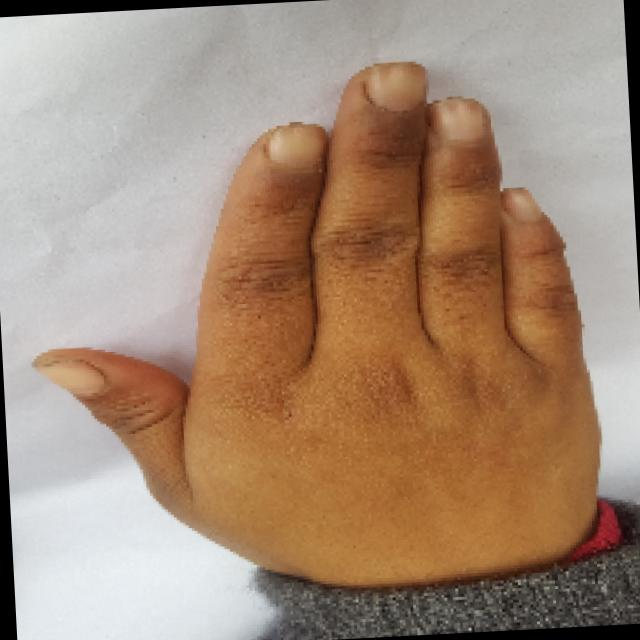Nail: (363, 62, 426, 111), (266, 123, 326, 169), (429, 97, 486, 143), (35, 362, 104, 395), (500, 187, 541, 221)
